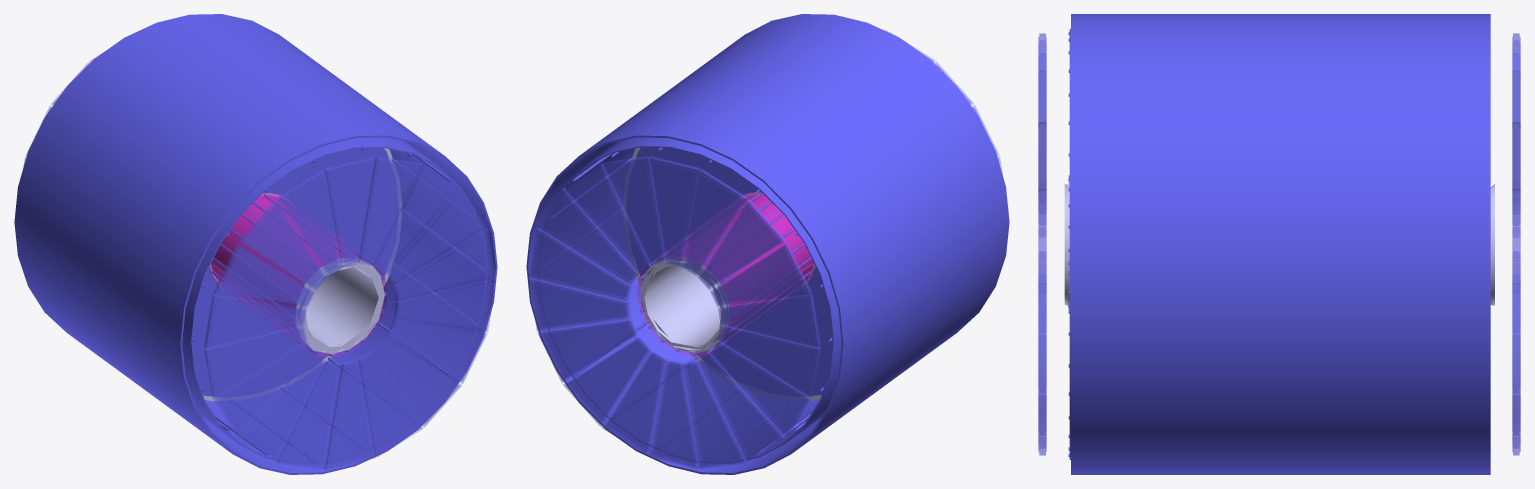
Rendered from g3_tpc.glb.
3 views of the same model, side by side, from view 1: azimuth 30°, elevation 25°; view 2: azimuth 150°, elevation 25°; view 3: azimuth 270°, elevation 25° (orthographic). The views are drawn at different scales.
Visible parts, largest first — view 1: Mesh_9; view 2: Mesh_9; view 3: Mesh_9.
Part boxes in pixels (x1,y1,x2,y2): Mesh_9: (14,14,497,474); Mesh_9: (526,14,1009,474); Mesh_9: (1038,14,1520,474).
Size of the model in its own units: 556 by 553 by 579.
